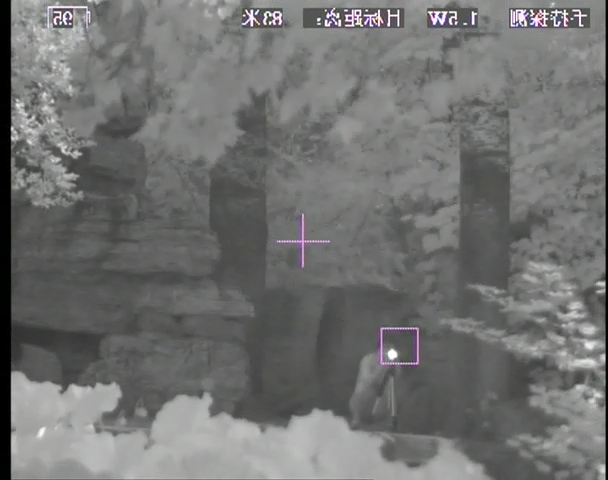my: (387, 347, 400, 362)
